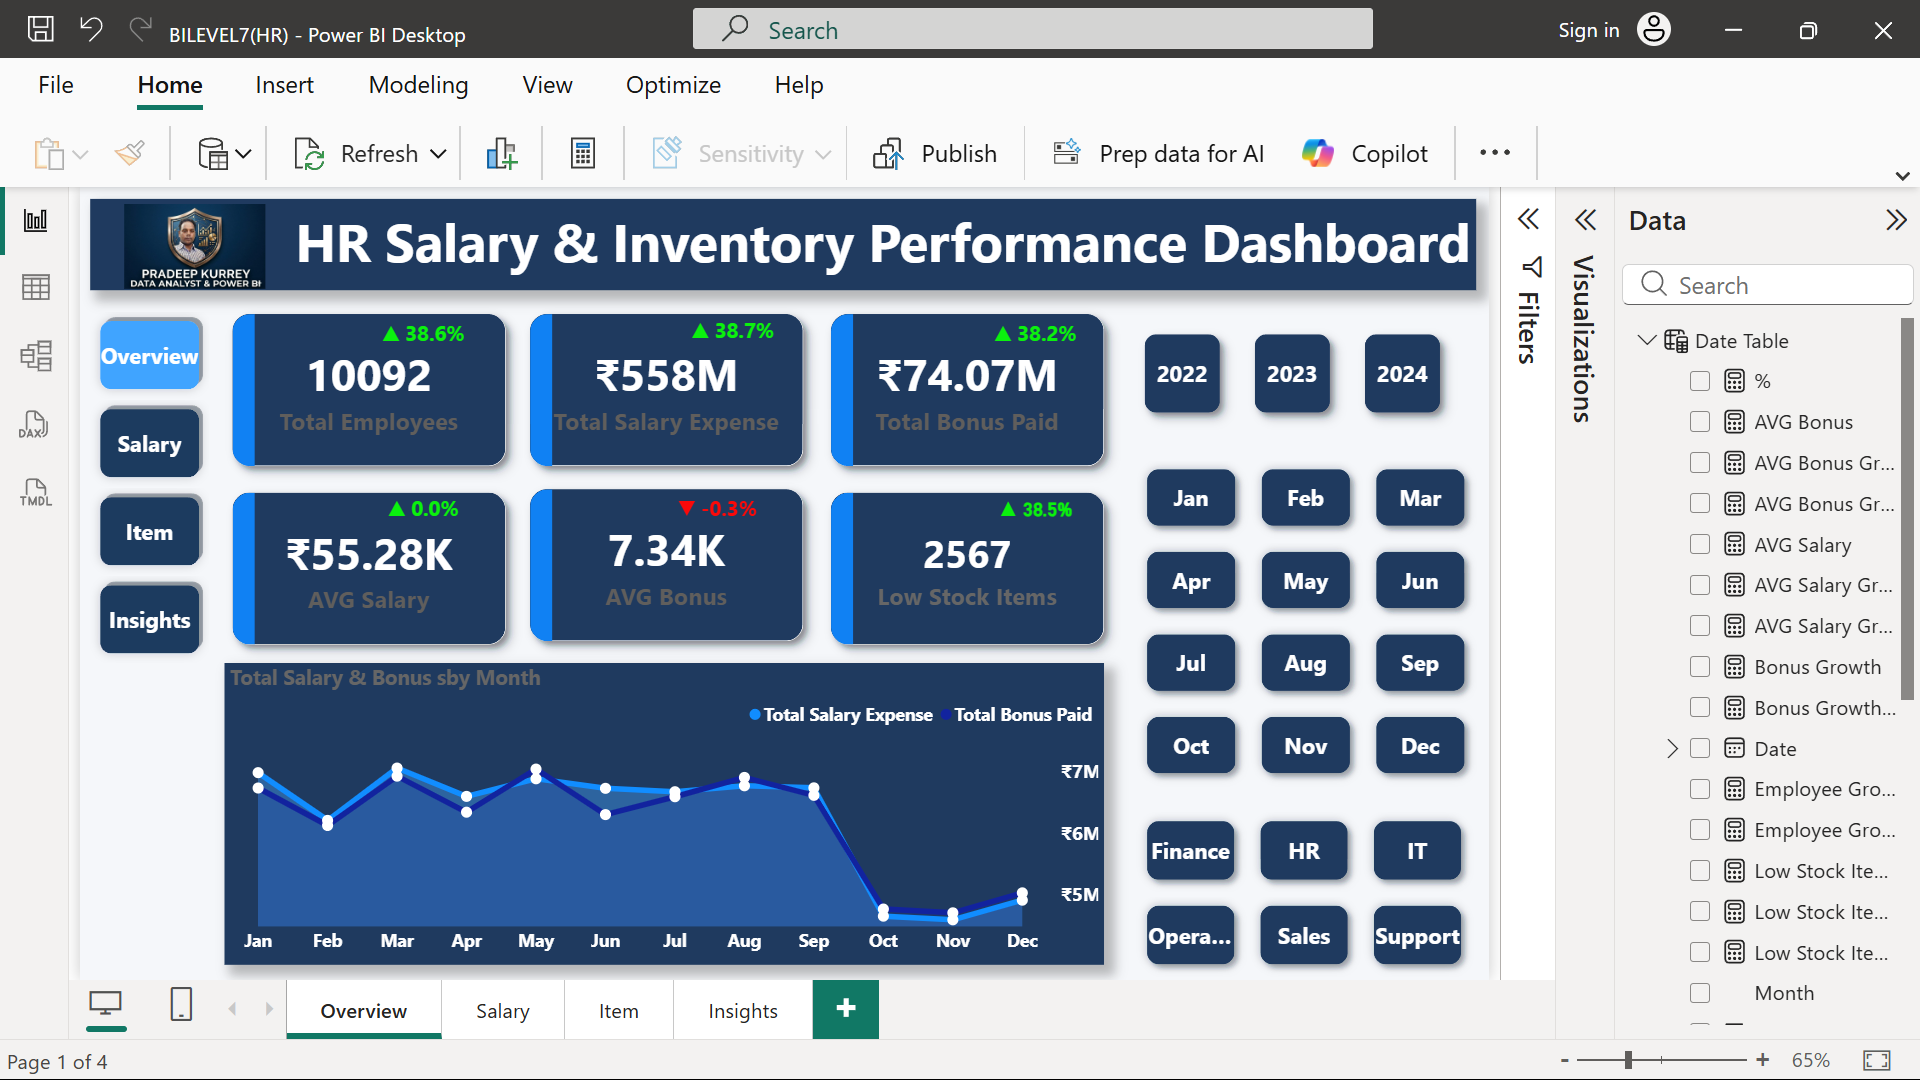

Layout of this report page (visuals, bound fields, positions):
{"tool":"powerbi","page":{"name":"Overview","canvas":[1280,720],"ordinal":0},"visuals":[{"type":"textbox","box":[9.2,11,1258.6,82.8],"z":0},{"type":"pageNavigator","box":[9.2,112.2,108.6,322],"z":1000},{"type":"advancedSlicerVisual","fields":{"Values":["Date Table.Year"]},"box":[951.3,112.2,301.8,108.6],"z":2000},{"type":"advancedSlicerVisual","fields":{"Values":["Date Table.Month"]},"box":[956.8,239.2,312.8,307.3],"z":3000},{"type":"advancedSlicerVisual","fields":{"Values":["Table1.Dept"]},"box":[956.8,559.4,311,160.1],"z":4000},{"type":"cardVisual","fields":{"Data":["Date Table.Total Employees"]},"box":[117.8,93.8,290,180],"z":5000},{"type":"cardVisual","fields":{"Data":["Date Table.AVG Salary"]},"box":[117.8,255.8,290,180],"z":6000},{"type":"cardVisual","fields":{"Data":["Date Table.AVG Bonus Paid"]},"box":[388.2,253.9,290.7,180.3],"z":7000},{"type":"cardVisual","fields":{"Data":["Date Table.Low Stock Items"]},"box":[660.6,255.8,290.7,180.3],"z":8000},{"type":"cardVisual","fields":{"Data":["Date Table.Total Salaries"]},"box":[388.2,93.8,290.7,180.3],"z":9000},{"type":"cardVisual","fields":{"Data":["Date Table.Total Bonus"]},"box":[660.6,93.8,290.7,180.3],"z":10000},{"type":"areaChart","title":"Total Salary & Bonus sby Month","fields":{"Y":["Date Table.Total Salary Expense"],"Y2":["Date Table.Total Bonus Paid"],"Category":["Date Table.Month"]},"box":[130.6,432.4,798.6,274.2],"z":11000},{"type":"card","fields":{"Values":["Date Table.Salary Growth %"]},"box":[542.8,112.2,97.5,36.8],"z":12000},{"type":"card","fields":{"Values":["Date Table.AVG Salary Growth %"]},"box":[263.1,274.2,97.5,36.8],"z":13000},{"type":"card","fields":{"Values":["Date Table.AVG Bonus Growth %"]},"box":[529.9,274.2,97.5,36.8],"z":14000},{"type":"card","fields":{"Values":["Date Table.Low Stock Item Growth %"]},"box":[818.8,274.2,97.5,36.8],"z":15000},{"type":"card","fields":{"Values":["Date Table.Bonus Growth %"]},"box":[818.8,115.9,97.5,36.8],"z":16000},{"type":"card","fields":{"Values":["Date Table.Employee Growth %"]},"box":[263.1,115.9,97.5,36.8],"z":17000},{"type":"image","box":[3.7,14.7,202.4,77.3],"z":18000}]}

Visuals, with their boxes on the page's 1280x720 design canvas (x1, y1, x2, y2). These are canvas units, not pixel positions in the 1920x1080 screenshot, which may show the page scaled, cropped or inside an application window:
textbox: 9:11:1268:94
pageNavigator: 9:112:118:434
advancedSlicerVisual - Date Table.Year: 951:112:1253:221
advancedSlicerVisual - Date Table.Month: 957:239:1270:546
advancedSlicerVisual - Table1.Dept: 957:559:1268:720
cardVisual - Date Table.Total Employees: 118:94:408:274
cardVisual - Date Table.AVG Salary: 118:256:408:436
cardVisual - Date Table.AVG Bonus Paid: 388:254:679:434
cardVisual - Date Table.Low Stock Items: 661:256:951:436
cardVisual - Date Table.Total Salaries: 388:94:679:274
cardVisual - Date Table.Total Bonus: 661:94:951:274
"Total Salary & Bonus sby Month" areaChart: 131:432:929:707
card - Date Table.Salary Growth %: 543:112:640:149
card - Date Table.AVG Salary Growth %: 263:274:361:311
card - Date Table.AVG Bonus Growth %: 530:274:627:311
card - Date Table.Low Stock Item Growth %: 819:274:916:311
card - Date Table.Bonus Growth %: 819:116:916:153
card - Date Table.Employee Growth %: 263:116:361:153
image: 4:15:206:92
